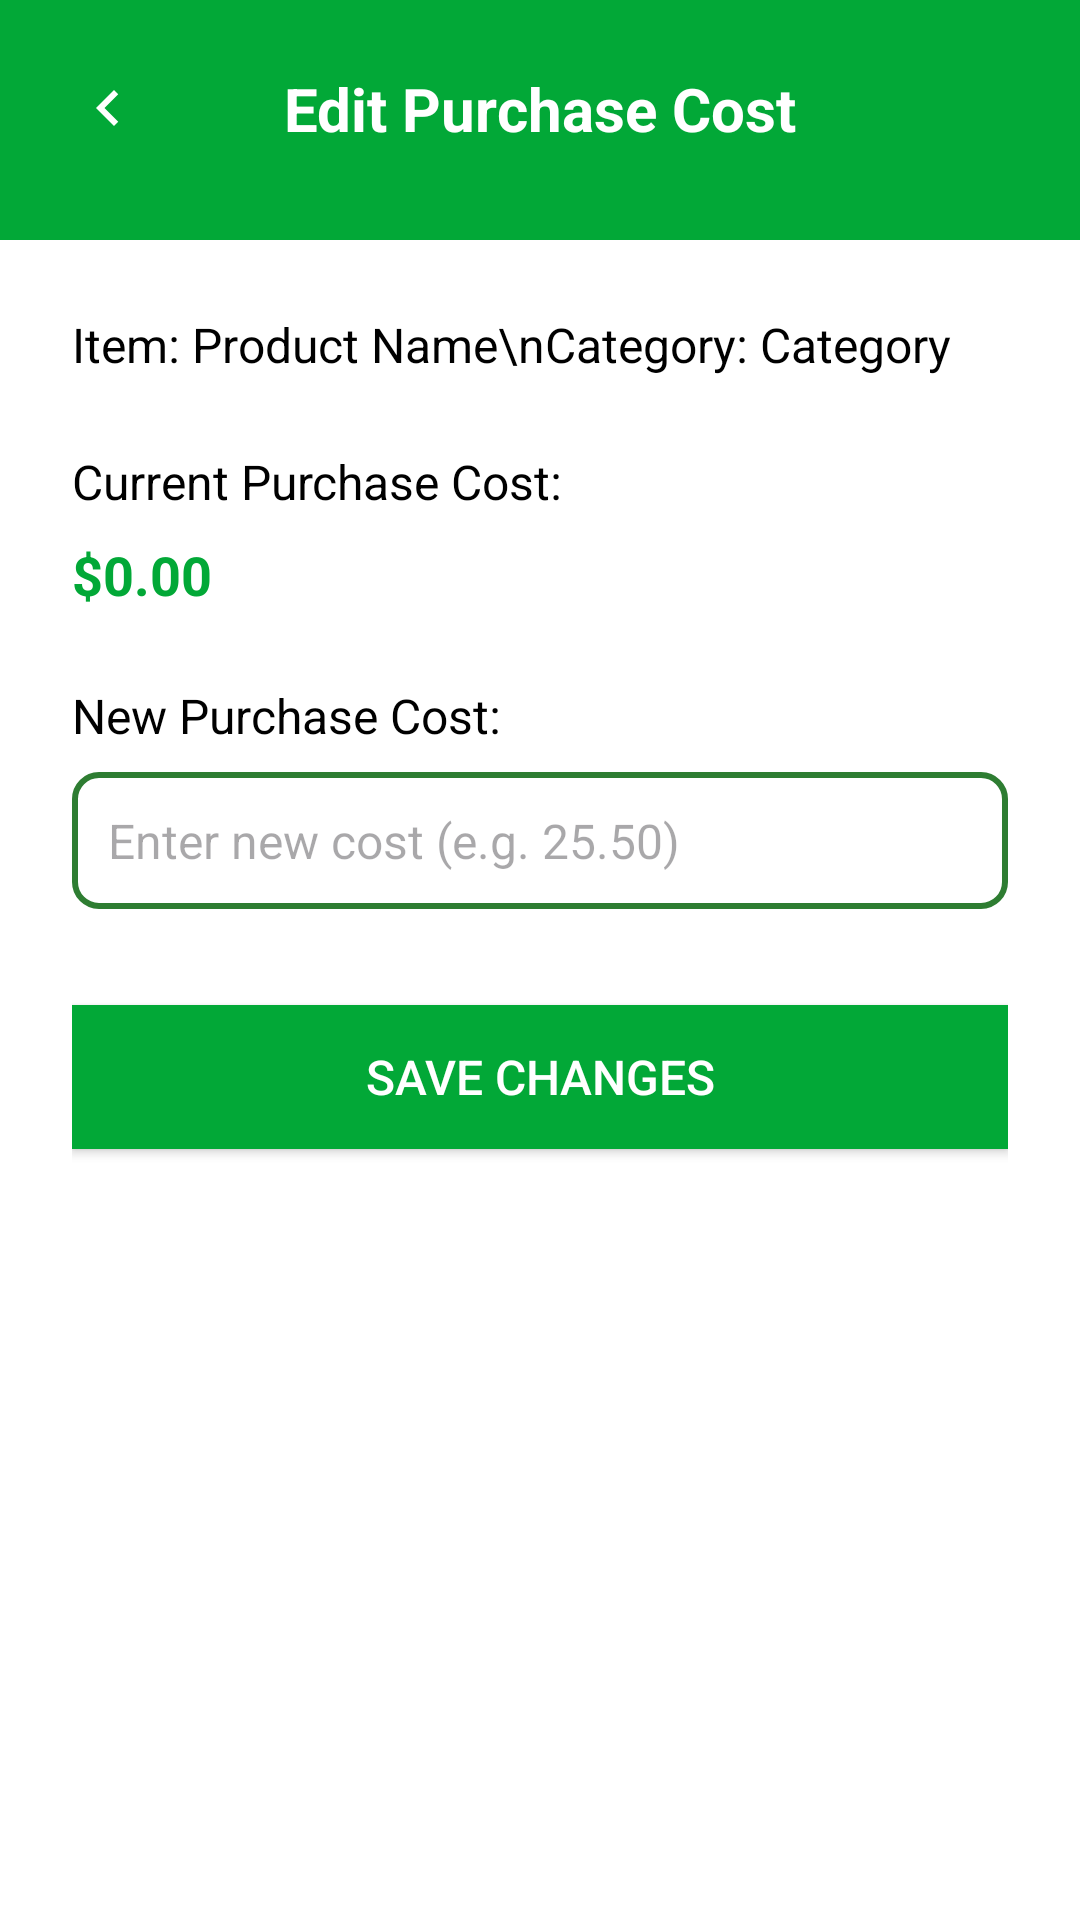

Locate icon controls on the screen. Image size 1080w x 1920h, boxes as [x1,y1,x2,y2].
Back: [96,90,118,126]
